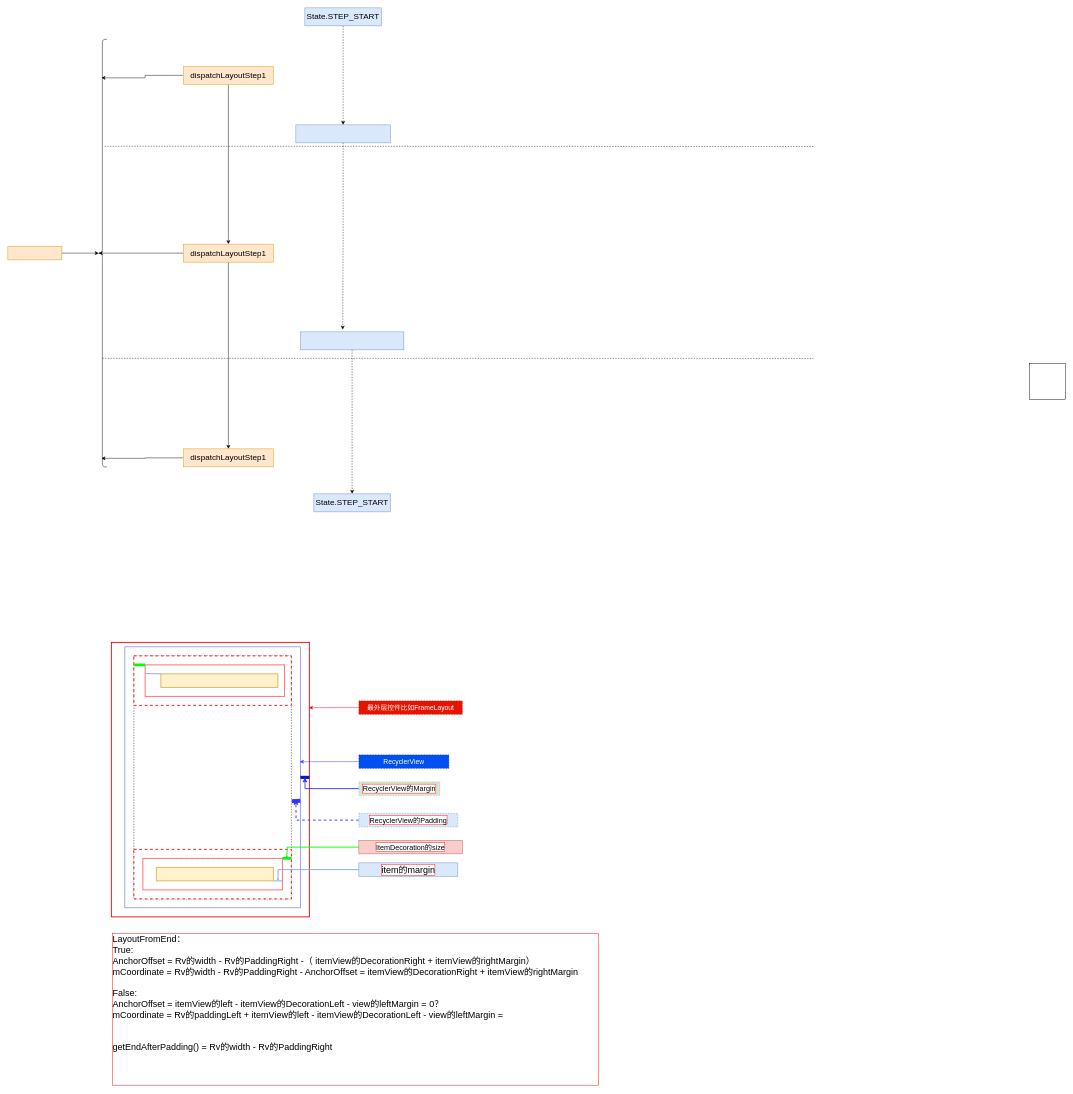
The diagram is 1073 pixels wide and 1094 high, and some of its shapes have lost their labels. Each missing label, with the box of its shape:
Item 0: (160, 673, 278, 688)
Item Last: (156, 867, 274, 881)
onMeasure: (7, 246, 62, 260)
State.STEP_ANIMATIONS: (300, 331, 404, 350)
State.STEP_LAYOUT: (295, 124, 390, 143)
